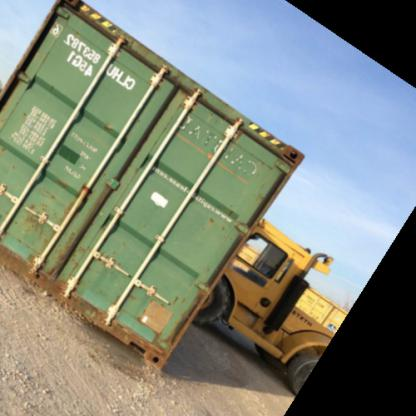Damage: (179, 110, 221, 155), (223, 145, 265, 187), (16, 194, 54, 240), (47, 242, 79, 280), (109, 280, 134, 316), (146, 321, 173, 351), (202, 207, 229, 236), (278, 141, 306, 165), (162, 288, 188, 308), (165, 66, 180, 77)
